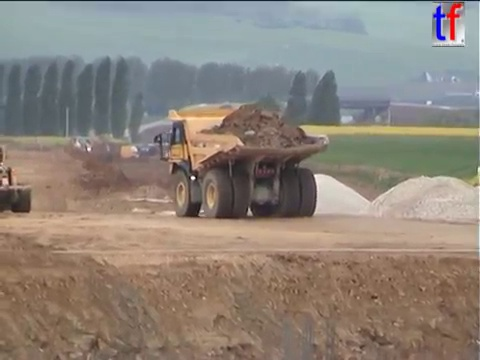motor grader: (1, 142, 33, 215)
truck: (150, 104, 331, 221)
